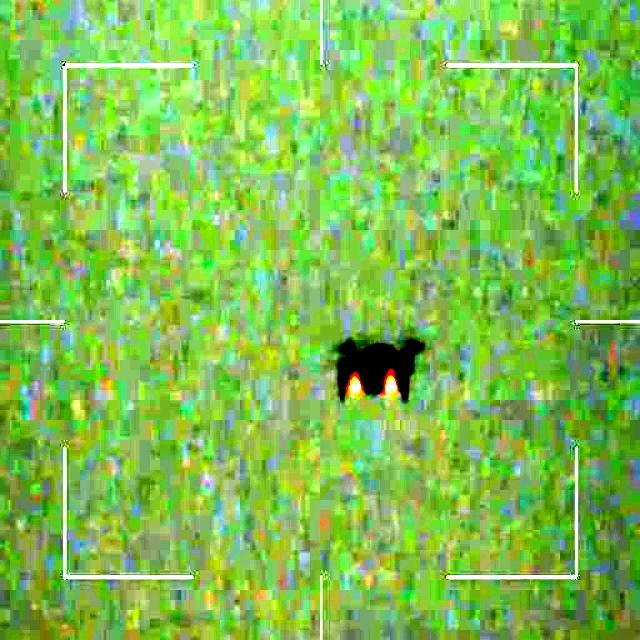bird: (330, 340, 429, 402)
